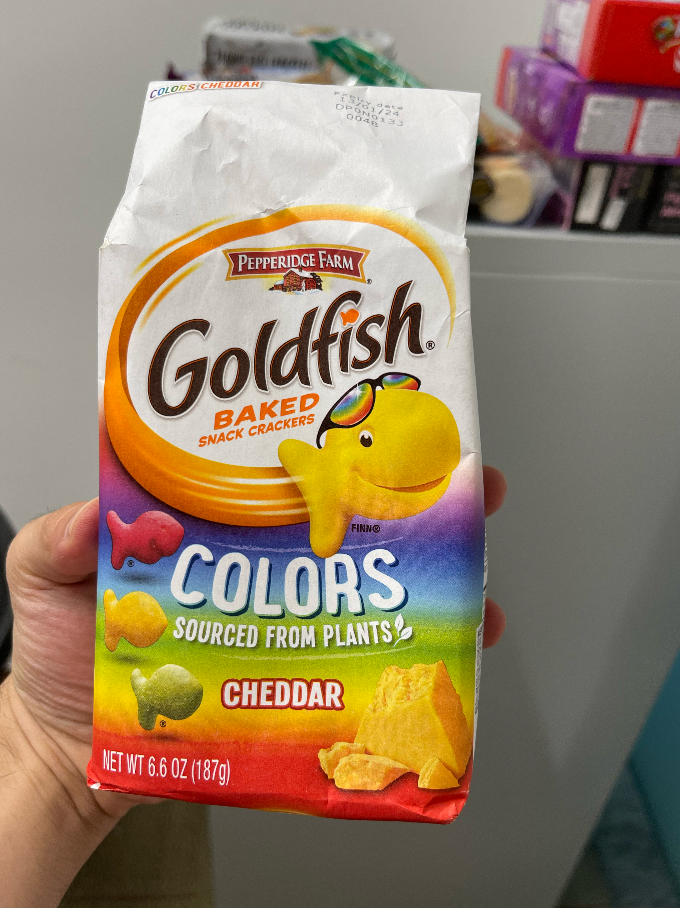crackers_100g-199g: (123, 181, 472, 794)
